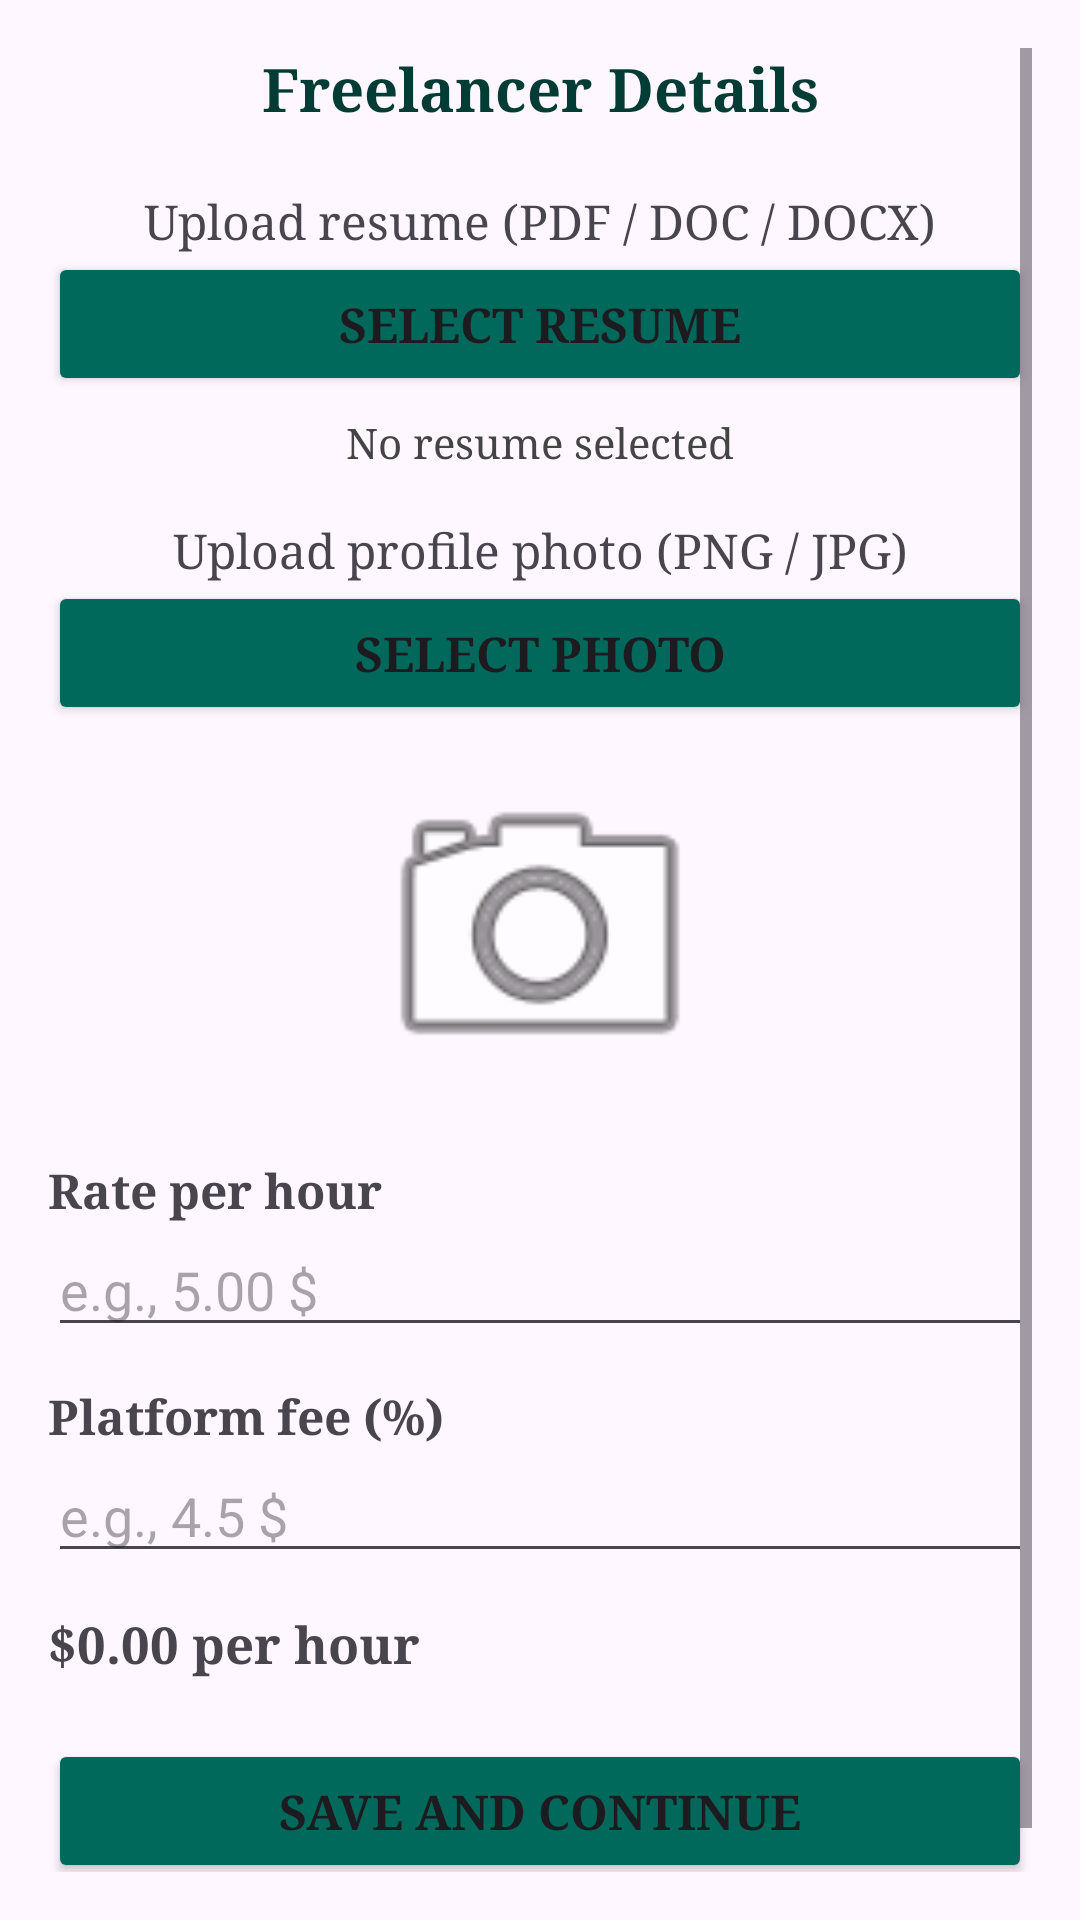

Screen size 1080px×1920px. Icon name, then its center in pixels as [x,y]:
photo preview: [540,923]
